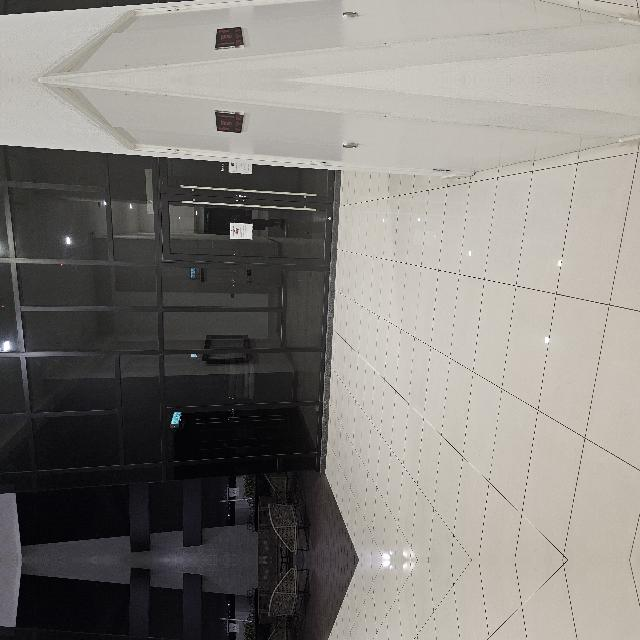door: (305, 234, 399, 422)
obstacle: (5, 347, 61, 393), (55, 342, 89, 382)
